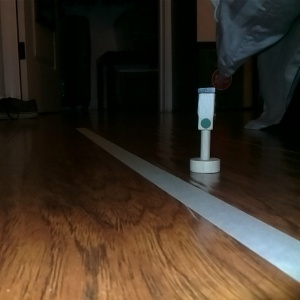traffic light green: (187, 83, 221, 176)
